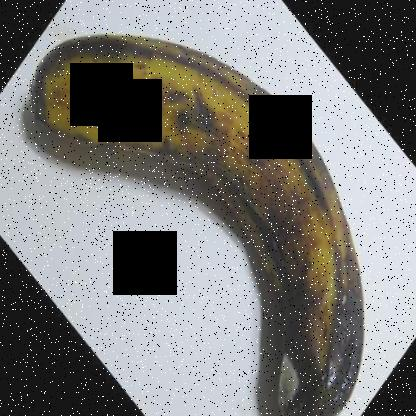overripe: (15, 6, 383, 415)
rotten: (271, 289, 375, 415)
